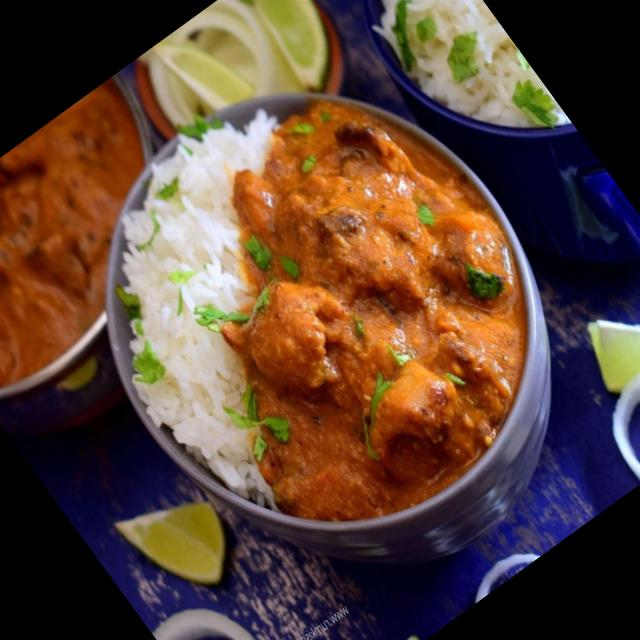chicken: (168, 96, 598, 554), (0, 85, 217, 408)
rice: (67, 144, 312, 382), (348, 0, 561, 164)
